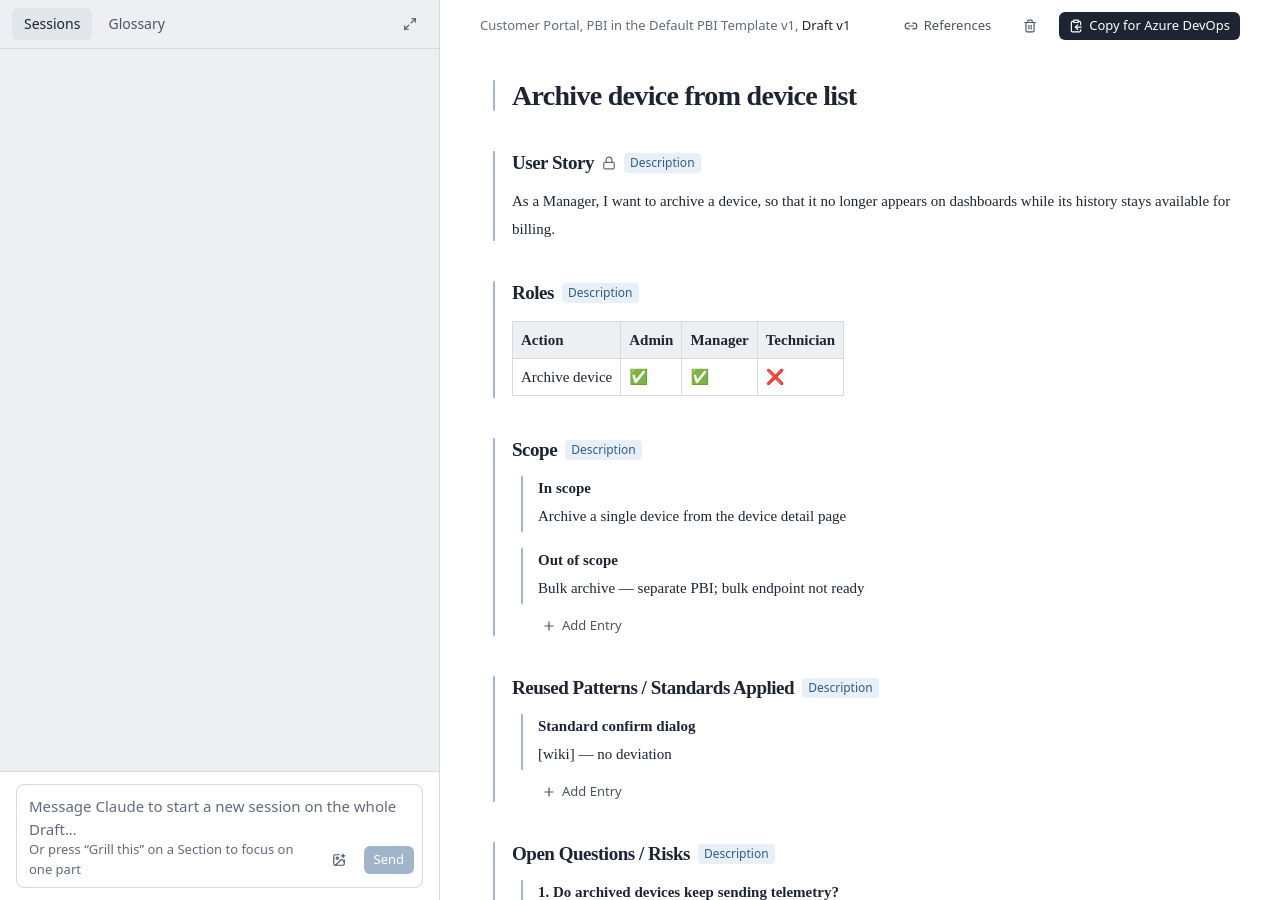
Test: DraftPage from v1 › sets References to other written Drafts
What coordinates should you click on to do the following:
click the button "References"
I would click on:
 (948, 26)
Its box is [894,12,1001,40].
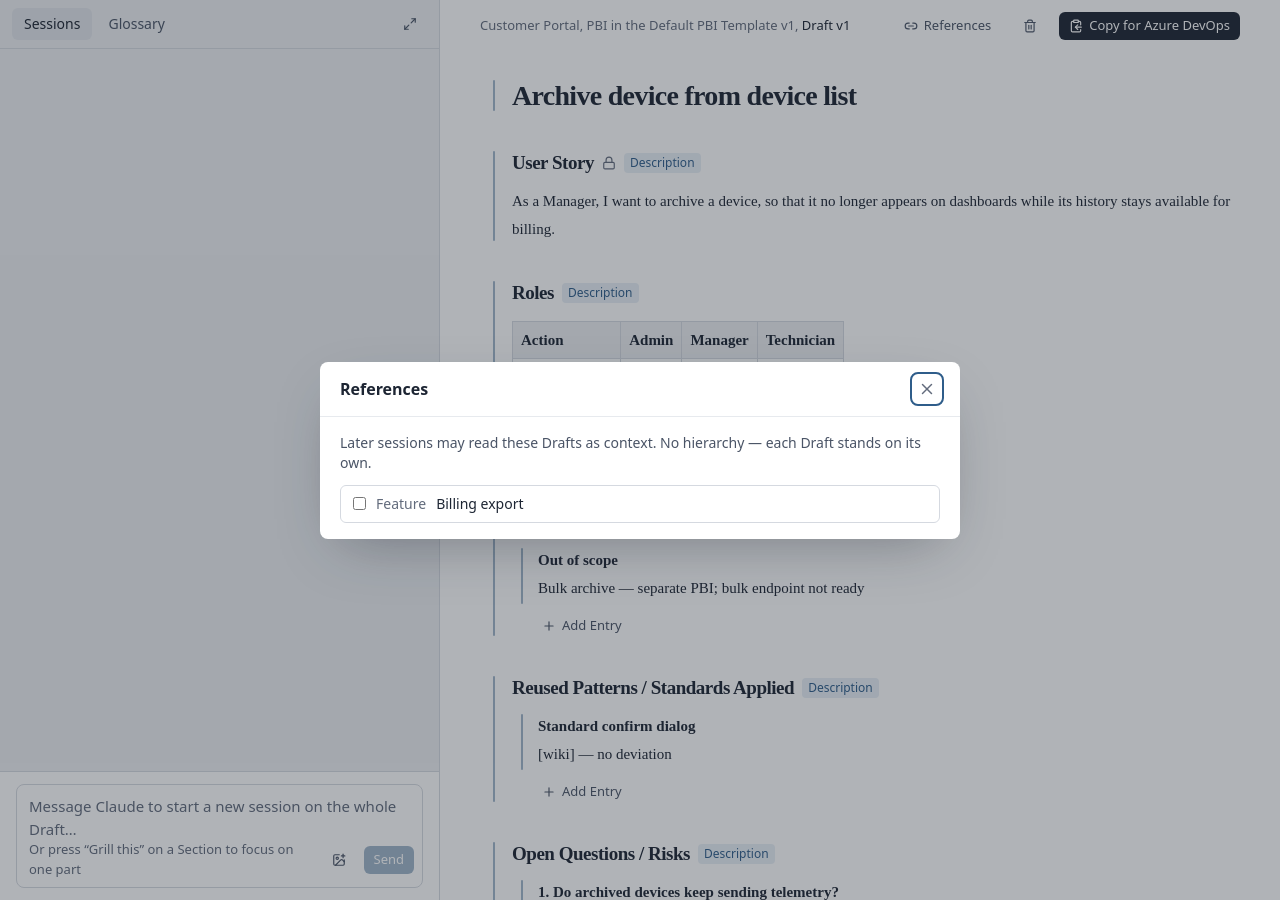
What coordinates should you click on to do the following:
click the checkbox labelled "Feature Billing export"
I would click on:
 (360, 504)
Its box is [353,497,366,510].
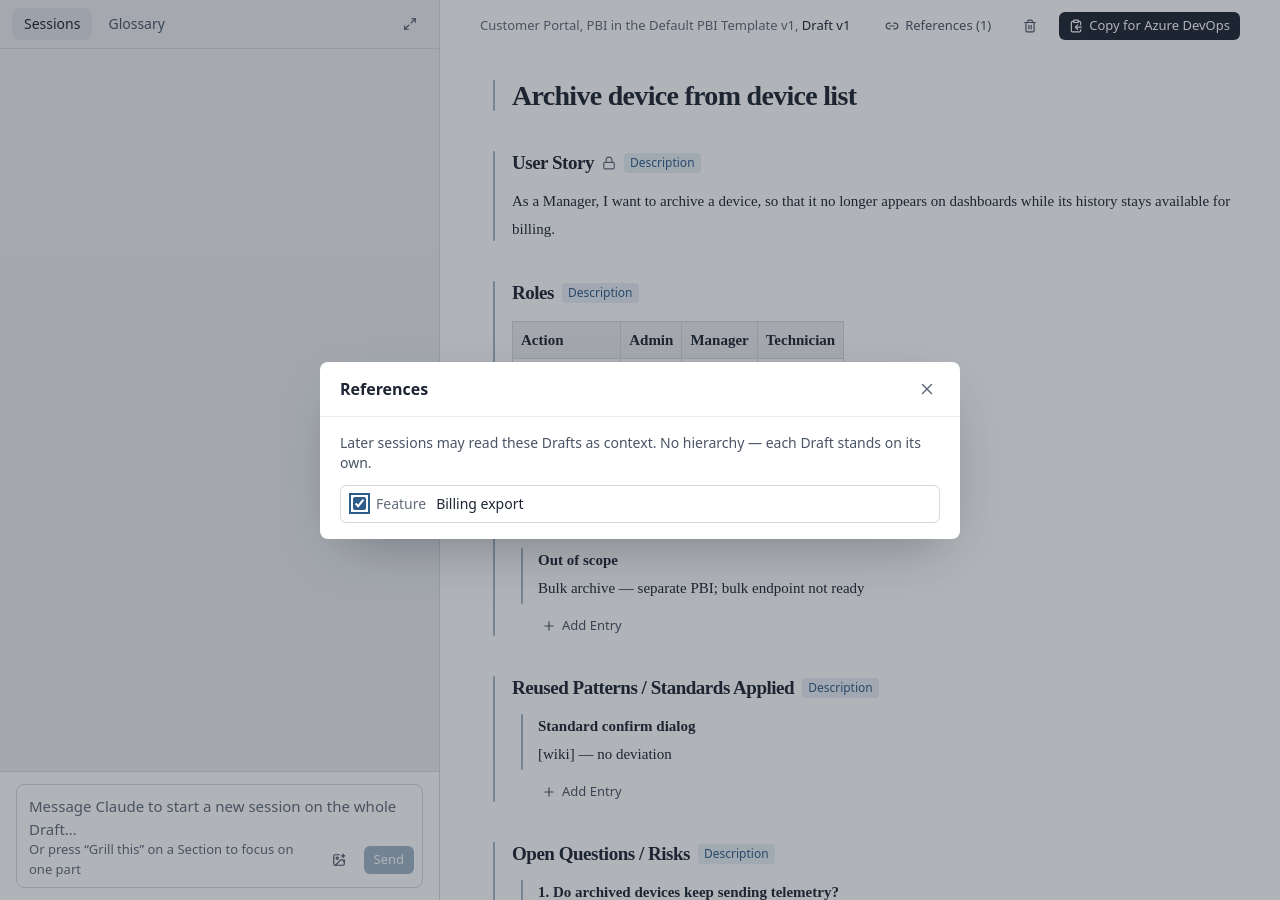
Expected: the button "References (1)" is shown, [875,12,1001,40]
